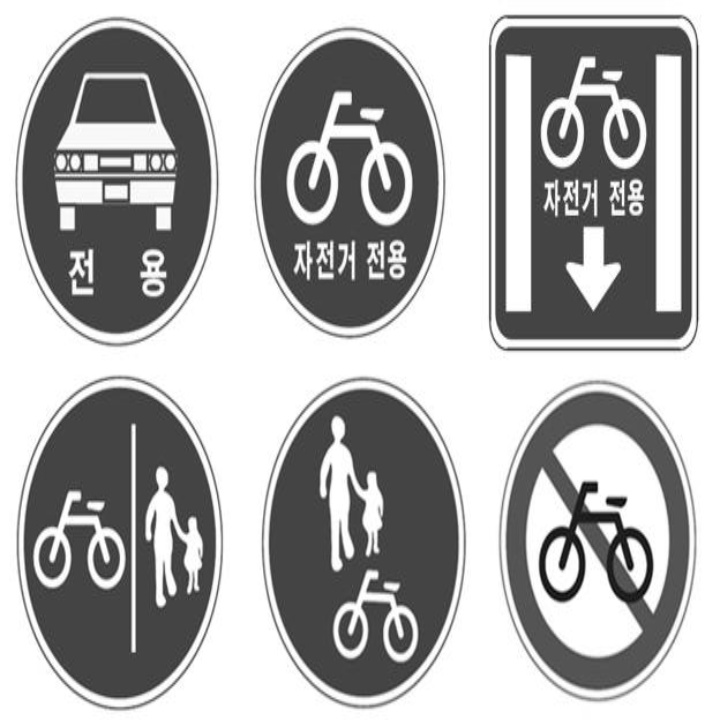bicycle: (278, 81, 432, 232), (536, 54, 656, 174), (31, 484, 135, 596), (317, 566, 432, 659)
